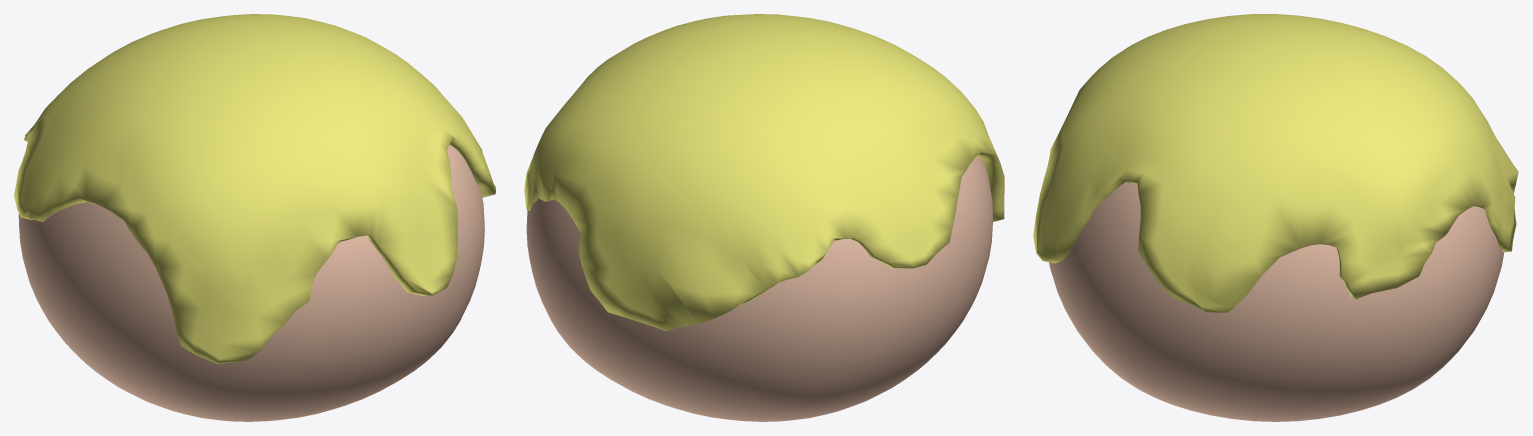
File: yellow clay.fbx
3 renders of one model, left to right at view 1: azimuth 30°, elevation 25°; view 2: azimuth 150°, elevation 25°; view 3: azimuth 270°, elevation 25°, orthographic.
Parts seen in each view (by area): view 1: yello clay; view 2: yello clay; view 3: yello clay.
Part boxes in pixels (x1,y1,x2,y2): yello clay: [14, 14, 495, 421]; yello clay: [524, 14, 1004, 421]; yello clay: [1033, 14, 1518, 421].
Size of the model in its own units: 167 by 134 by 168.
